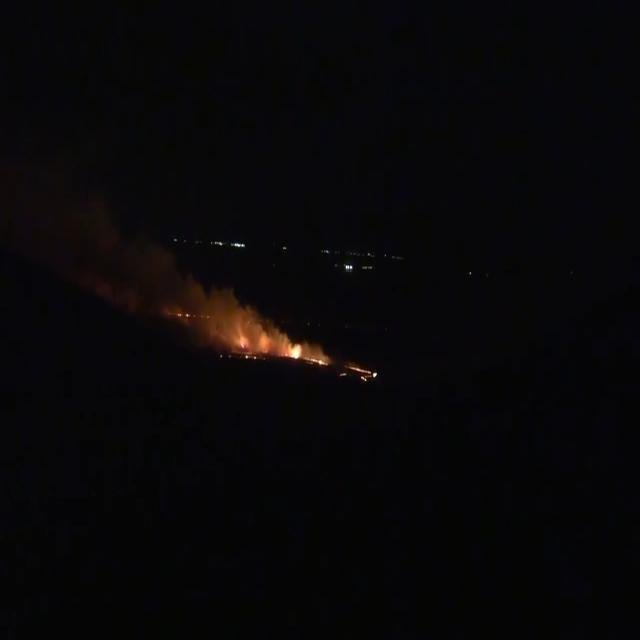Fire: (175, 277, 326, 367)
